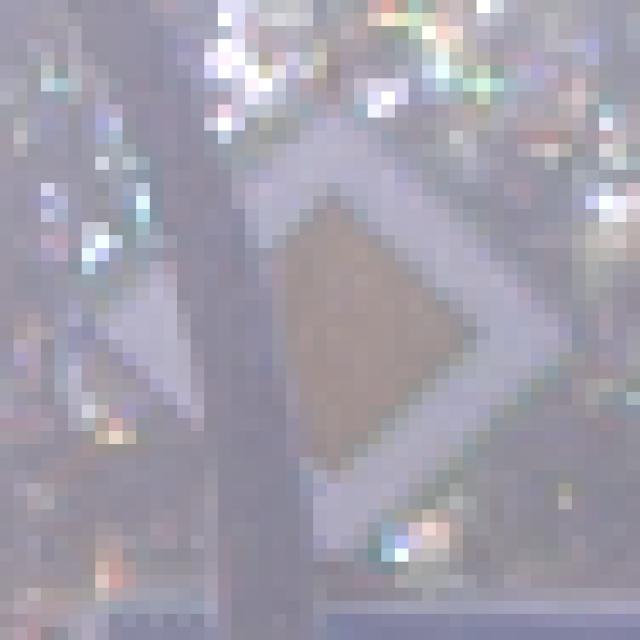Main Road: (83, 66, 573, 563)
